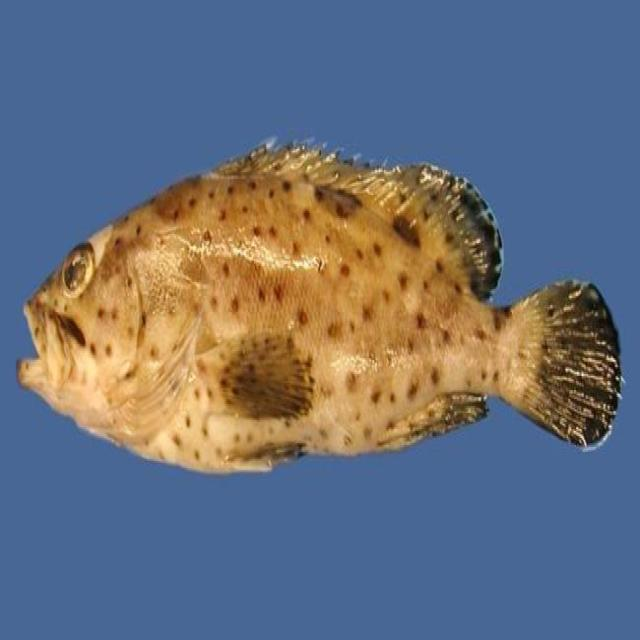ikan: (15, 135, 624, 477)
